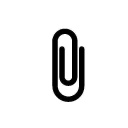Metal: (33, 13, 99, 127)
